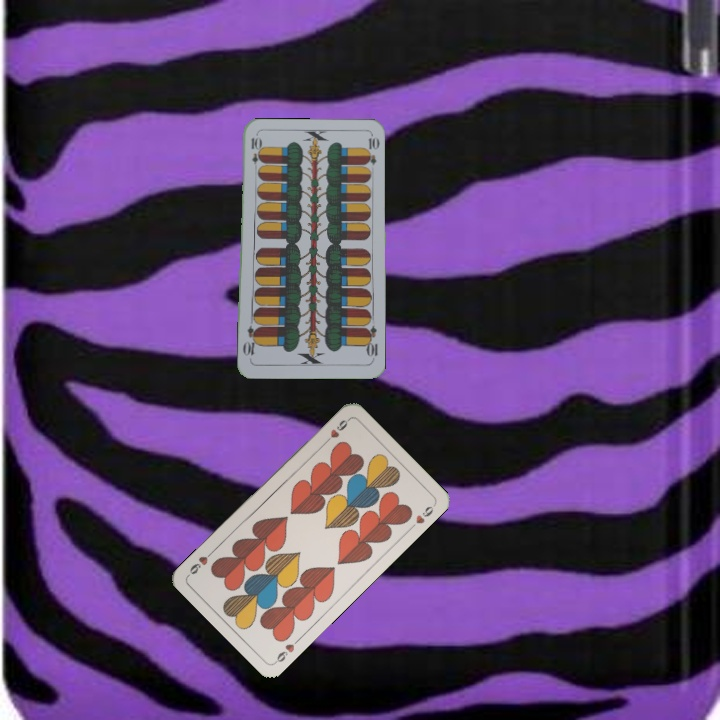E10: (361, 322, 380, 363), (247, 133, 261, 174)
H9: (319, 415, 352, 447), (271, 634, 303, 665)
